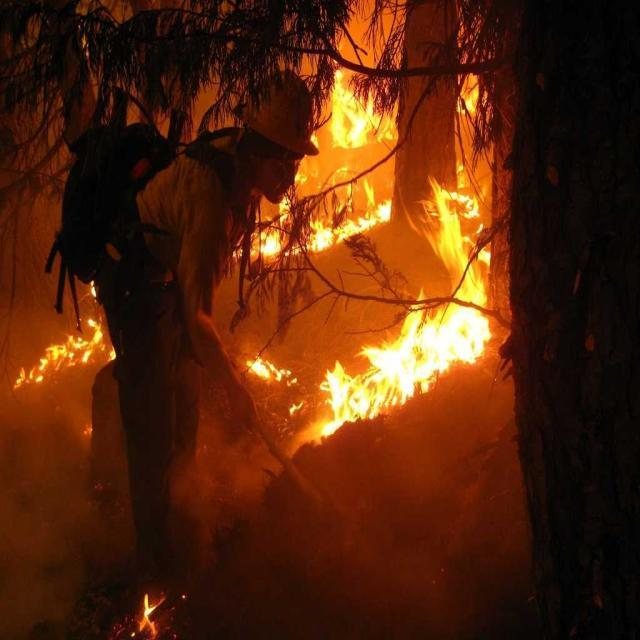Fire: (390, 306, 491, 396), (332, 78, 378, 154), (331, 363, 385, 420)
